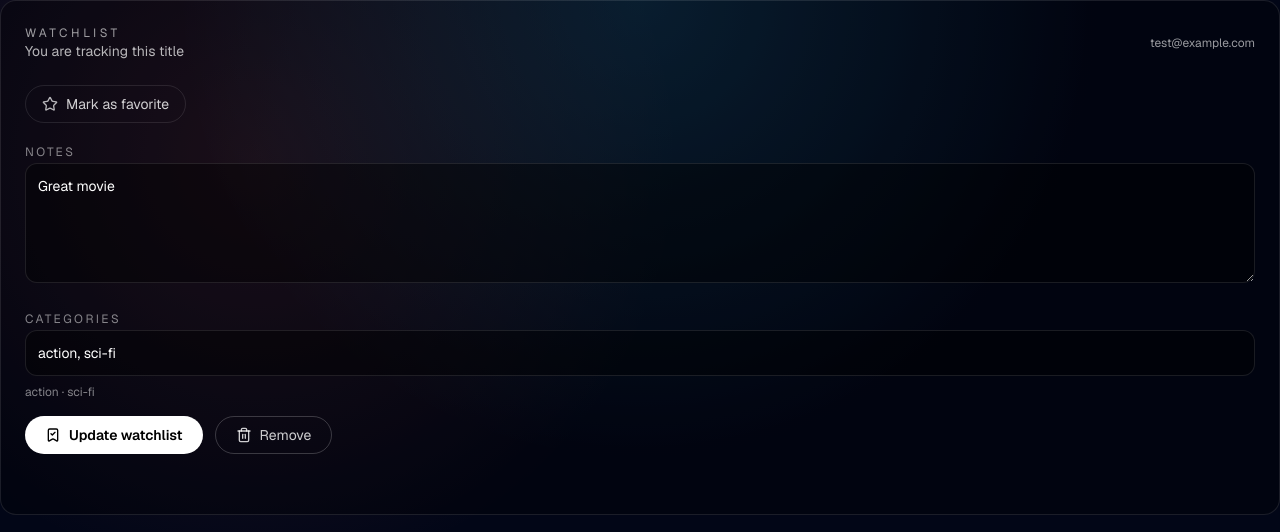
Test: WatchlistPanel › save operation › should show update feedback when updating existing item
What coordinates should you click on to do the following:
click the button "Update watchlist"
I would click on:
 (114, 435)
Its box is top-left (25, 416), bottom-right (203, 454).
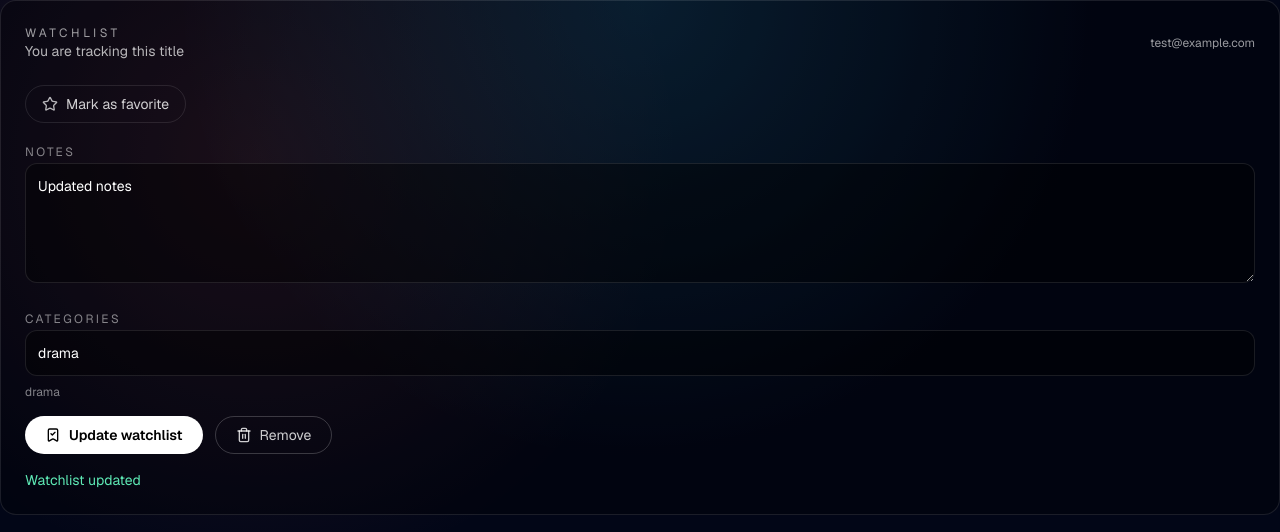
Expected: the text "Watchlist updated" is shown, top-left (25, 471), bottom-right (141, 489)
